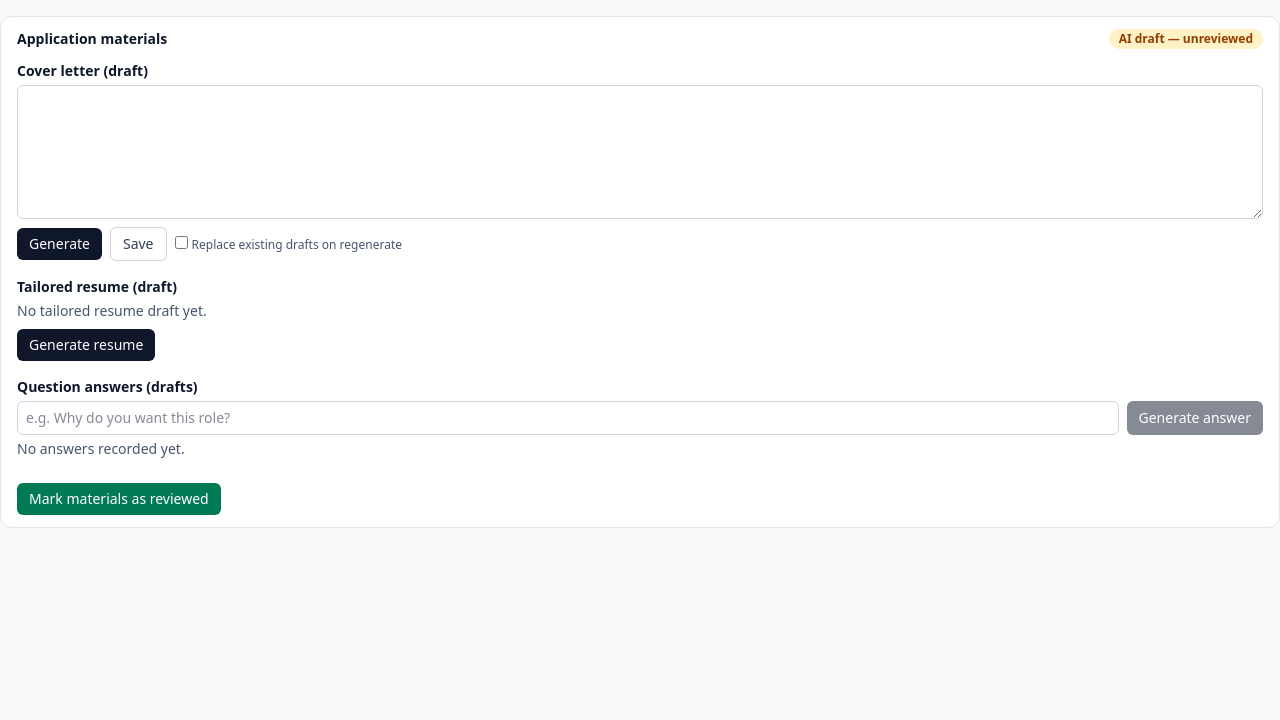
Test: MaterialsEditor › generates a cover letter and shows flagged gaps
This screenshot has width=1280, height=720.
Expected: the text "No tailored resume draft yet." is shown, [17,301,207,320]
Click the button "Generate". click: coordinates (60, 244)
box: [17,228,102,260]
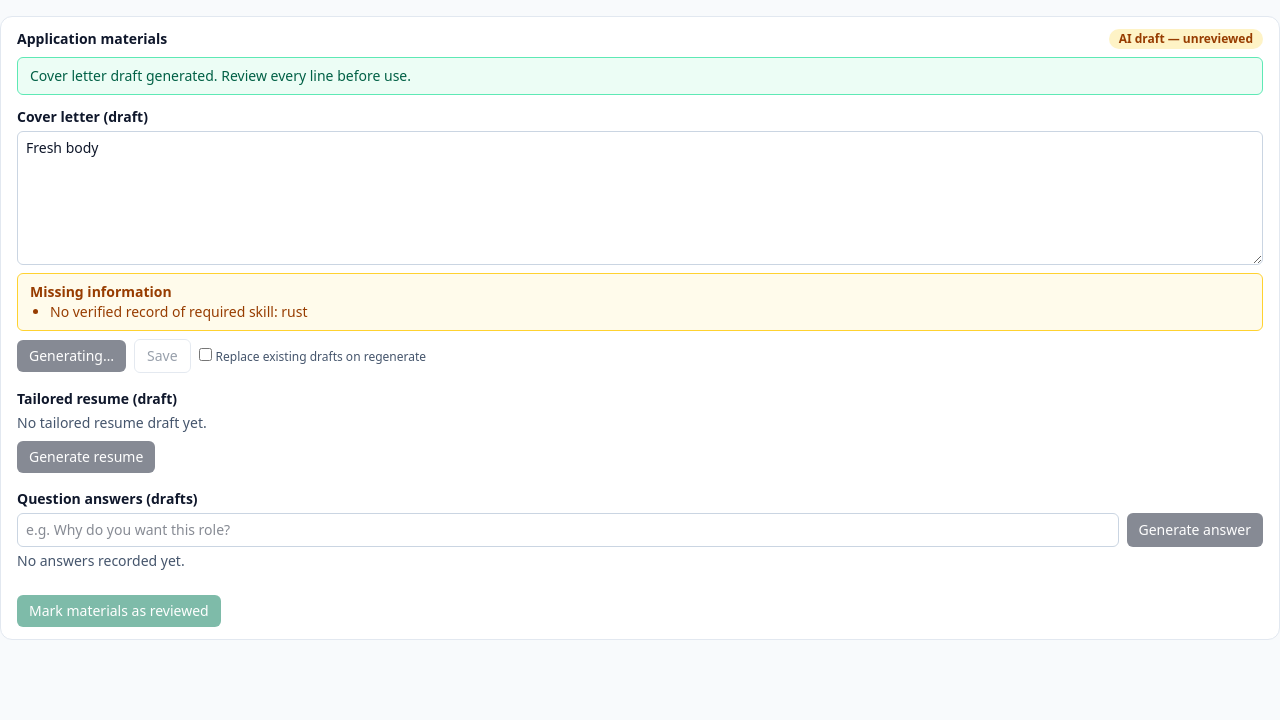
Expected: the text box showing "Fresh body" is shown, [17,131,1263,265]
Expected: the list item "No verified record of required skill: rust" is shown, [50,302,308,321]
